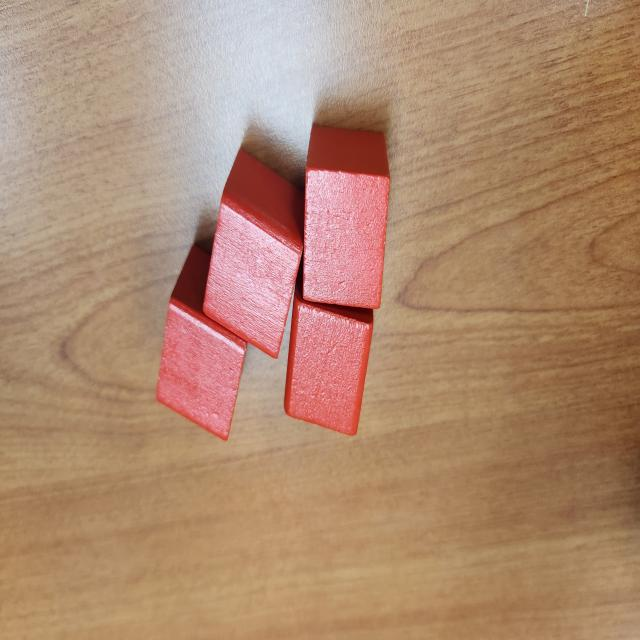red: (203, 149, 304, 358), (155, 241, 247, 444), (298, 122, 391, 309), (284, 297, 376, 438)
